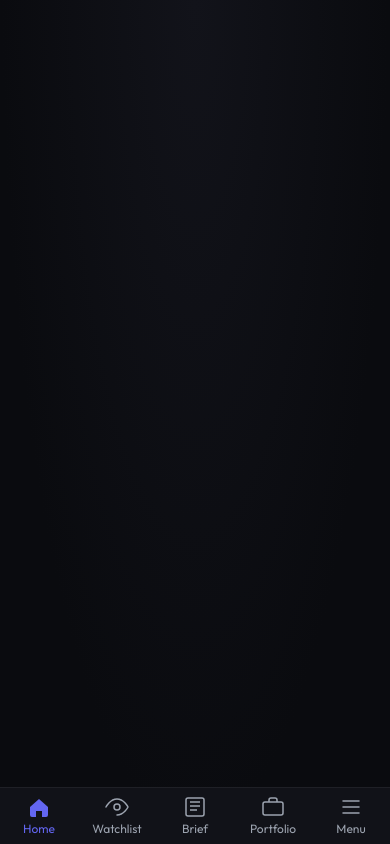
Test: BottomNav › Menu tab toggles menu sheet
Click the button labelled "Menu" at (351, 816), box x1=312 y1=788 x2=389 y2=843
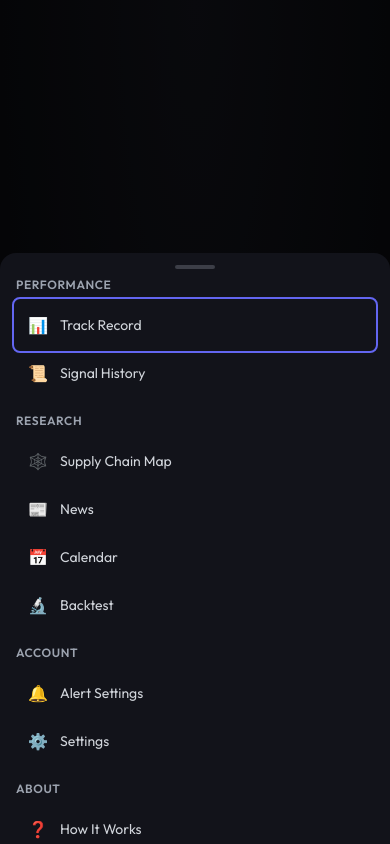
Expected: the dialog is shown
